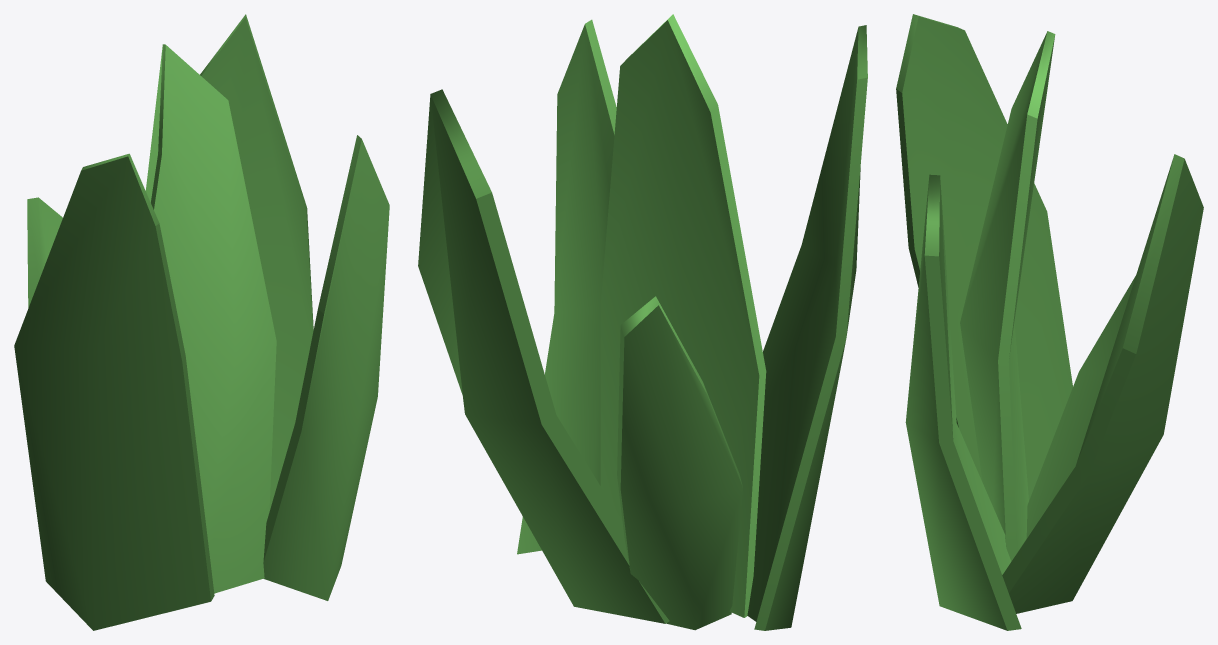
File: grass patch 2.fbx
The picture shows the model from 3 angles, left to right: view 1: azimuth 30°, elevation 25°; view 2: azimuth 150°, elevation 25°; view 3: azimuth 270°, elevation 25°; orthographic projection. The views are drawn at different scales.
Parts seen in each view (by area): view 1: grass_patch_4; view 2: grass_patch_4; view 3: grass_patch_4.
Part boxes in pixels (left/top/right/bottom): grass_patch_4: left=14, top=14, right=389, bottom=630; grass_patch_4: left=418, top=14, right=867, bottom=630; grass_patch_4: left=896, top=14, right=1203, bottom=630.
Bounding box in the file's own units: 0.5106 × 0.7909 × 0.4109.
